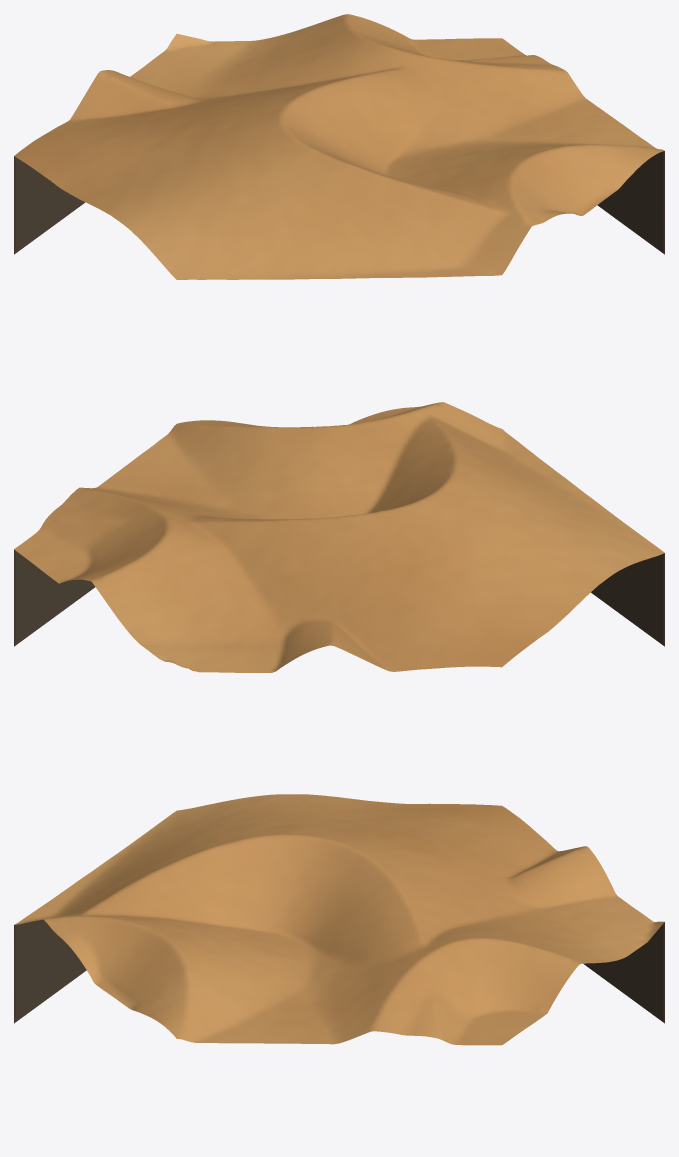
The picture shows the model from 3 angles, top to bottom: view 1: azimuth 30°, elevation 25°; view 2: azimuth 150°, elevation 25°; view 3: azimuth 270°, elevation 25°; orthographic projection.
Visible parts, largest first — view 1: terrain, hex_side_cut; view 2: terrain, hex_side_cut; view 3: terrain, hex_side_cut.
Boxes of the visible parts, left/top/right/bottom form: terrain: left=14, top=14, right=664, bottom=279; hex_side_cut: left=14, top=151, right=664, bottom=254; terrain: left=14, top=402, right=664, bottom=672; hex_side_cut: left=14, top=549, right=664, bottom=646; terrain: left=14, top=794, right=664, bottom=1045; hex_side_cut: left=14, top=919, right=664, bottom=1023.
Size of the model in its own units: 4330 by 1301 by 5000.
